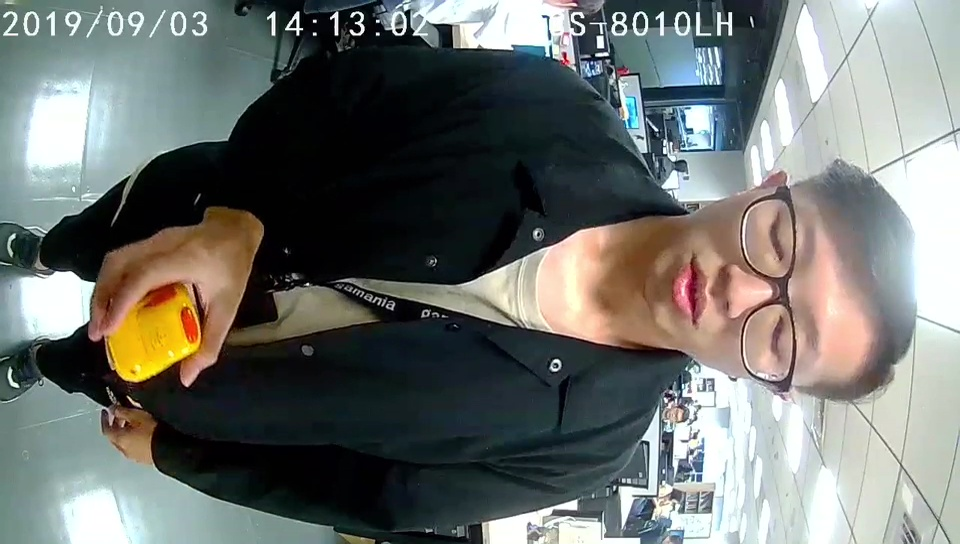car: (107, 279, 200, 387)
